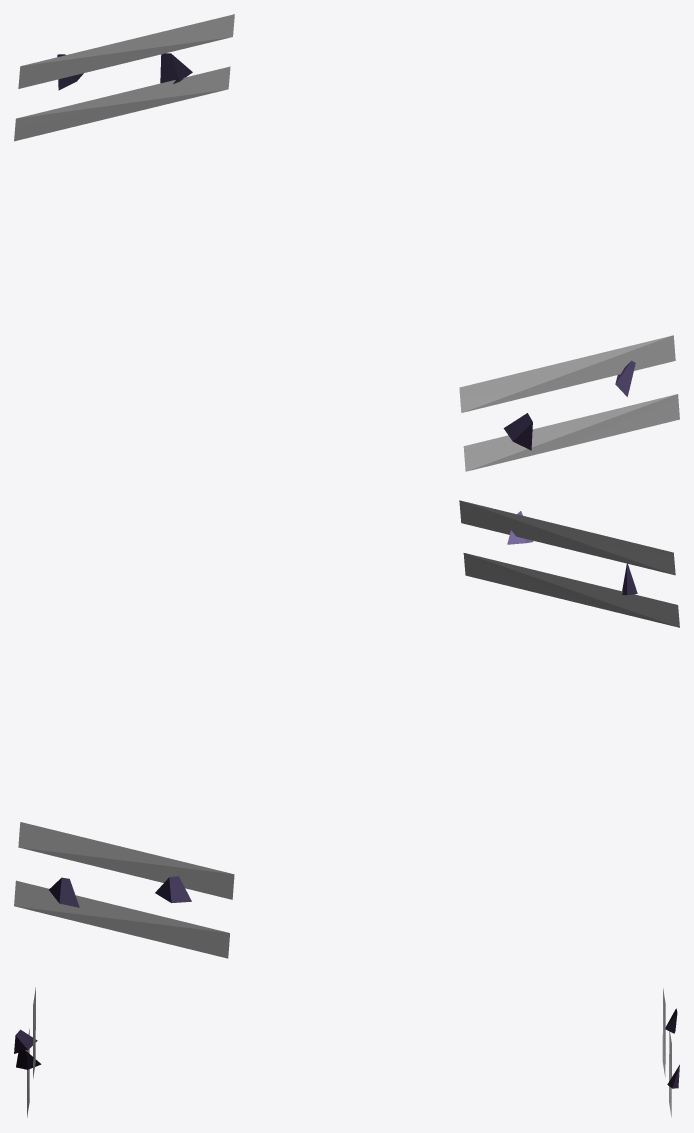
The model's file is vein_rock_b_mined_obsidian_low.glb.
The picture shows the model from 3 angles, top to bottom: view 1: azimuth 30°, elevation 25°; view 2: azimuth 150°, elevation 25°; view 3: azimuth 270°, elevation 25°; orthographic projection. The views are drawn at different scales.
Bounding box in the file's own units: 0.22 × 0.0784 × 0.8287.
